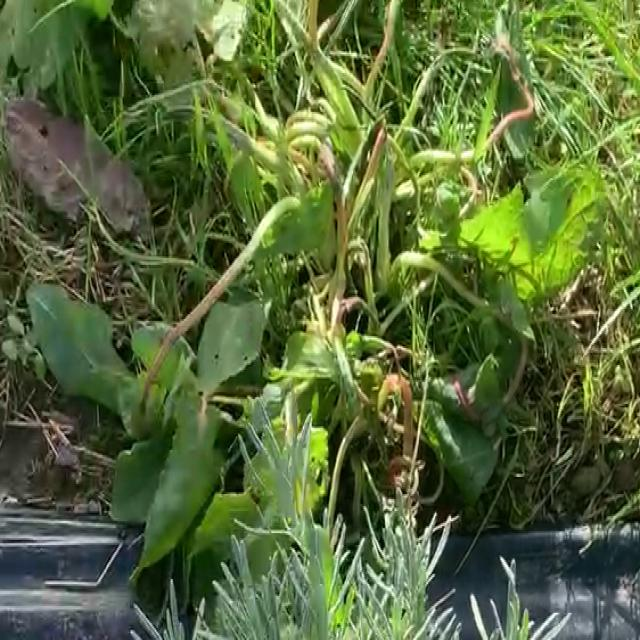organic waste: (6, 0, 570, 640)
